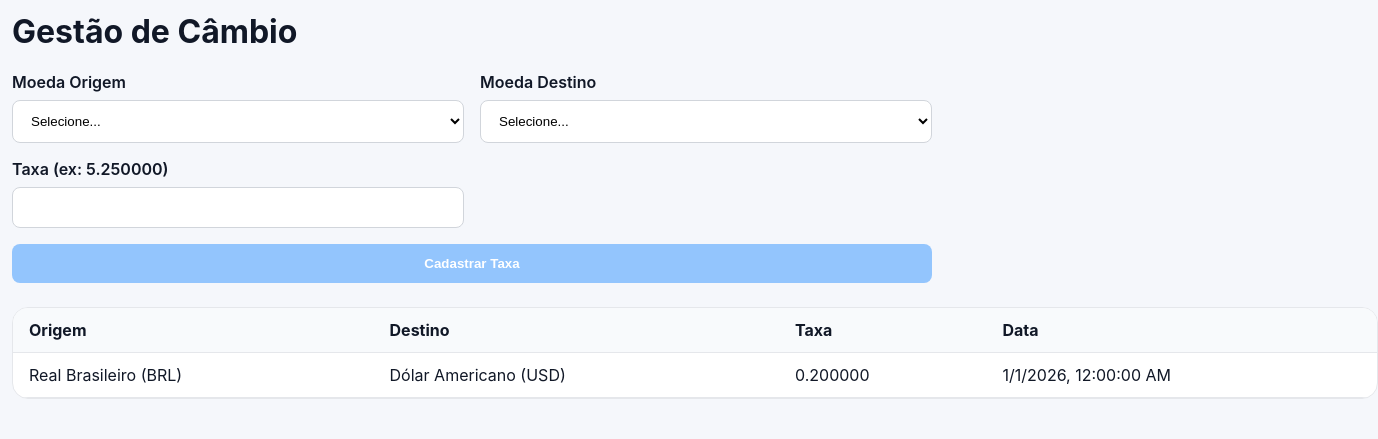
Test: CambioPage › blocks submit when origem and destino are the same currency
Expected: the text "0.200000" is shown, [779,353,986,398]
Step 1. Select "Real Brasileiro (BRL)" in the dropdown labelled "Moeda Origem" → (238, 122), box [12,100,464,143]
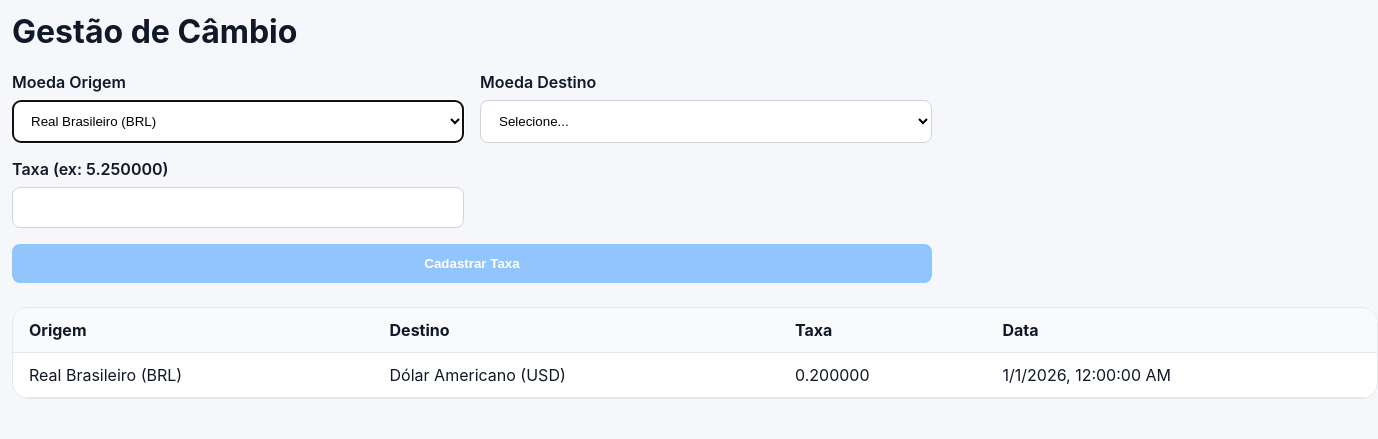
Step 2. Select "Real Brasileiro (BRL)" in the dropdown labelled "Moeda Destino" → (706, 122), box [480,100,932,143]
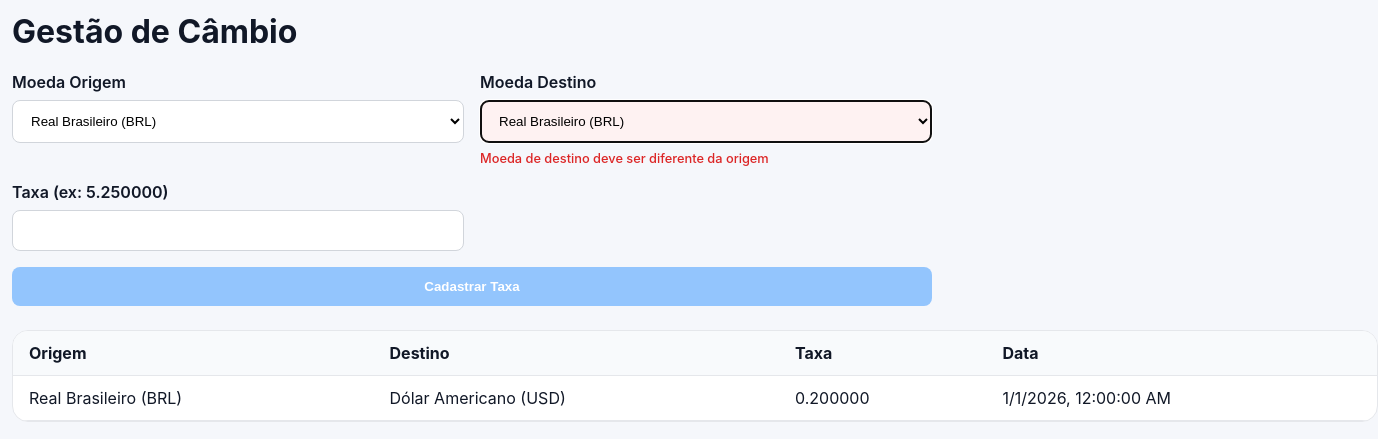
Expected: the button "Cadastrar Taxa" is disabled, [12,267,932,306]
Expected: the text "Moeda de destino deve ser diferente da origem" is shown, [480,151,769,166]
